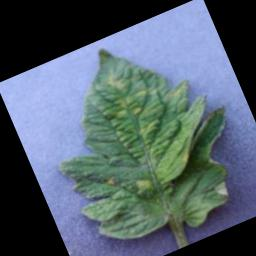Leaf_Mold: (21, 12, 256, 256)
